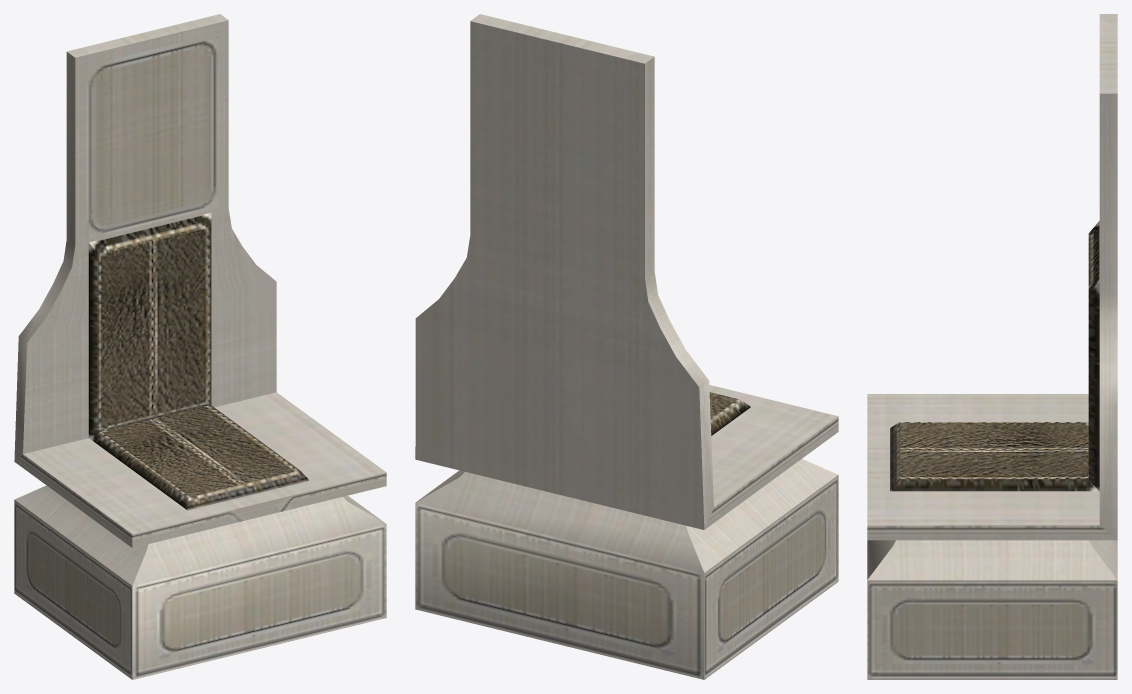
Rendered from frn_all_eleg_chair_s01_l0.fbx.
3 views of the same model, side by side, from view 1: azimuth 30°, elevation 25°; view 2: azimuth 150°, elevation 25°; view 3: azimuth 270°, elevation 25° (orthographic). The views are drawn at different scales.
Parts seen in each view (by area): view 1: mesh_node; view 2: mesh_node; view 3: mesh_node.
Part boxes in pixels (x1,y1,x2,y2): mesh_node: (14, 14, 386, 679); mesh_node: (415, 14, 838, 679); mesh_node: (867, 14, 1117, 679).
Size of the model in its own units: 0.6884 by 1.37 by 0.554.
